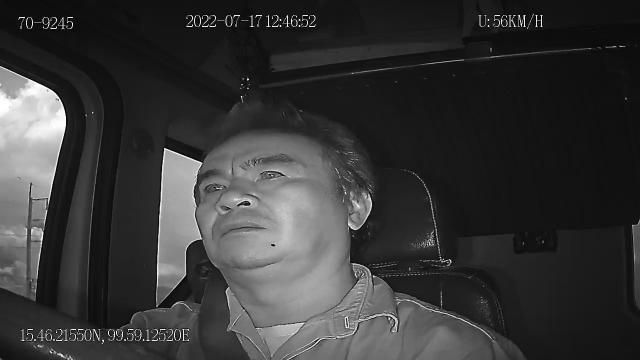SafeDriving: (247, 155, 295, 190), (196, 172, 234, 199)
Seatbelt: (196, 270, 252, 360)
